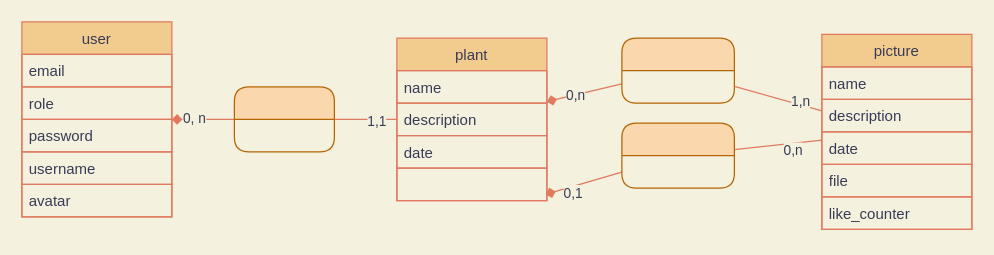
The diagram is 994 pixels wide and 255 high, and some of its shapes have lost their labels. Here are the shapes that lost their labels. From the top down, the centre of each, then its label:
the point at 677,70: CONTAINS
the point at 283,119: CREATES
the point at 677,155: HAS COVER
the point at 471,184: cover
